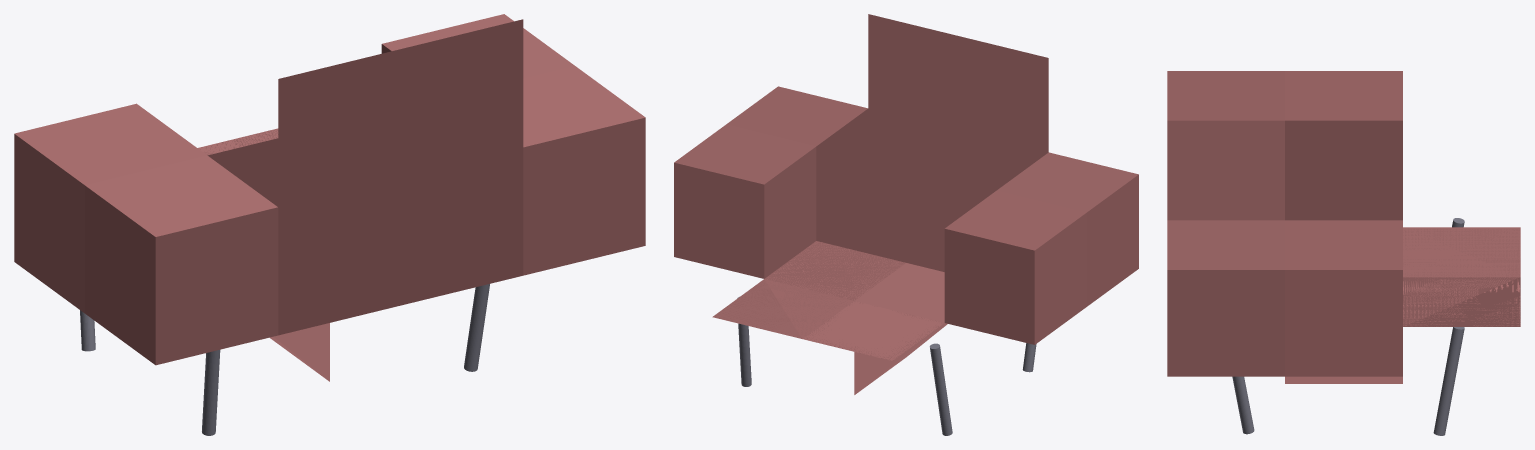
3 views of the same model, side by side, from view 1: azimuth 30°, elevation 25°; view 2: azimuth 150°, elevation 25°; view 3: azimuth 270°, elevation 25° (orthographic). The views are drawn at different scales.
Parts seen in each view (by area): view 1: object 5, Back_Right_Leg, Back_Left_Leg; view 2: object 5, Front_Left_Leg, Front_Right_Leg; view 3: object 5, Front_Right_Leg, Back_Right_Leg.
Part boxes in pixels (box(x1,y1,x2,y2)): object 5: box(14, 14, 645, 381); Back_Right_Leg: box(464, 284, 489, 371); Back_Left_Leg: box(202, 350, 220, 435); object 5: box(674, 14, 1138, 394); Front_Left_Leg: box(929, 343, 952, 435); Front_Right_Leg: box(737, 296, 751, 386); object 5: box(1167, 71, 1520, 383); Front_Right_Leg: box(1433, 327, 1464, 435); Back_Right_Leg: box(1232, 376, 1254, 434).
Bounding box in the file's own units: 2.02 × 1.51 × 1.51.
